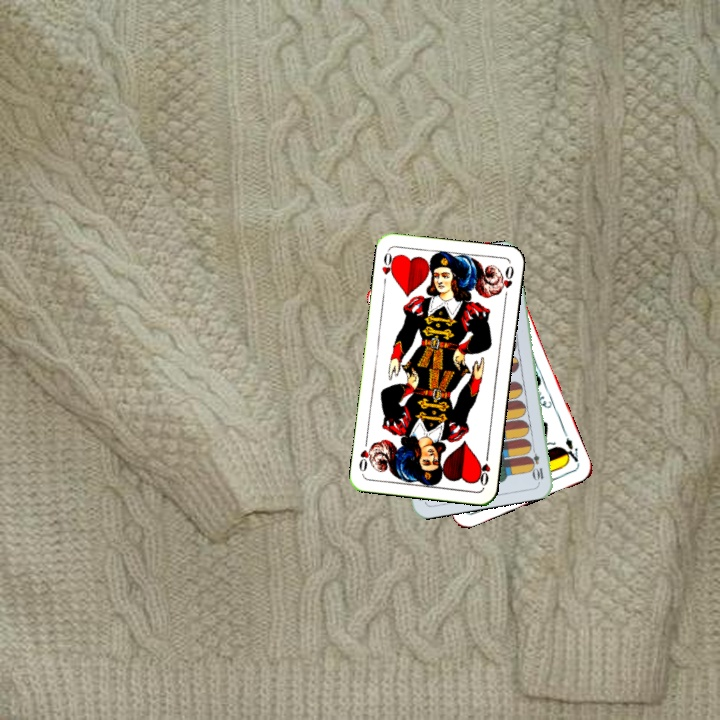E10: (527, 442, 546, 483)
EA: (559, 428, 582, 467)
HO: (474, 448, 493, 488), (378, 247, 398, 280)
